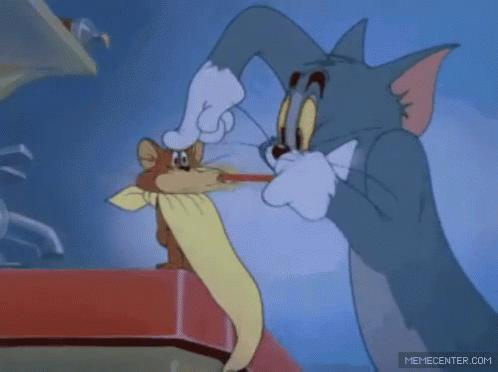jerry: (137, 137, 230, 274)
